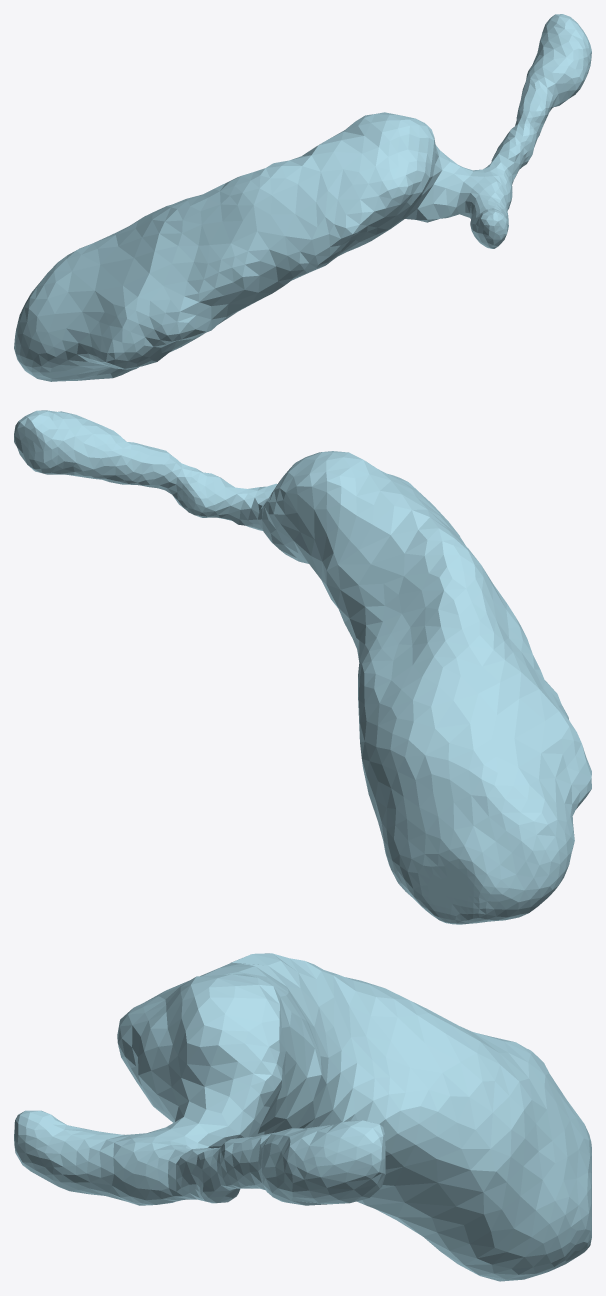
Rendered from gallbladder.obj.
3 views of the same model, one above another, from view 1: azimuth 30°, elevation 25°; view 2: azimuth 150°, elevation 25°; view 3: azimuth 270°, elevation 25° (orthographic). The views are drawn at different scales.
Parts seen in each view (by area): view 1: grp1; view 2: grp1; view 3: grp1.
Part boxes in pixels (bbox=[...]): grp1: bbox=[14, 14, 591, 381]; grp1: bbox=[14, 410, 591, 924]; grp1: bbox=[14, 953, 591, 1281].
Size of the model in its own units: 91.61 by 50.05 by 56.
